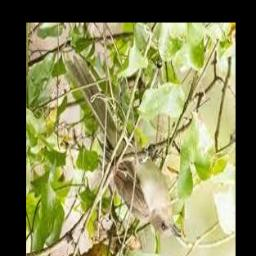Cuckoo: (65, 54, 181, 239)
